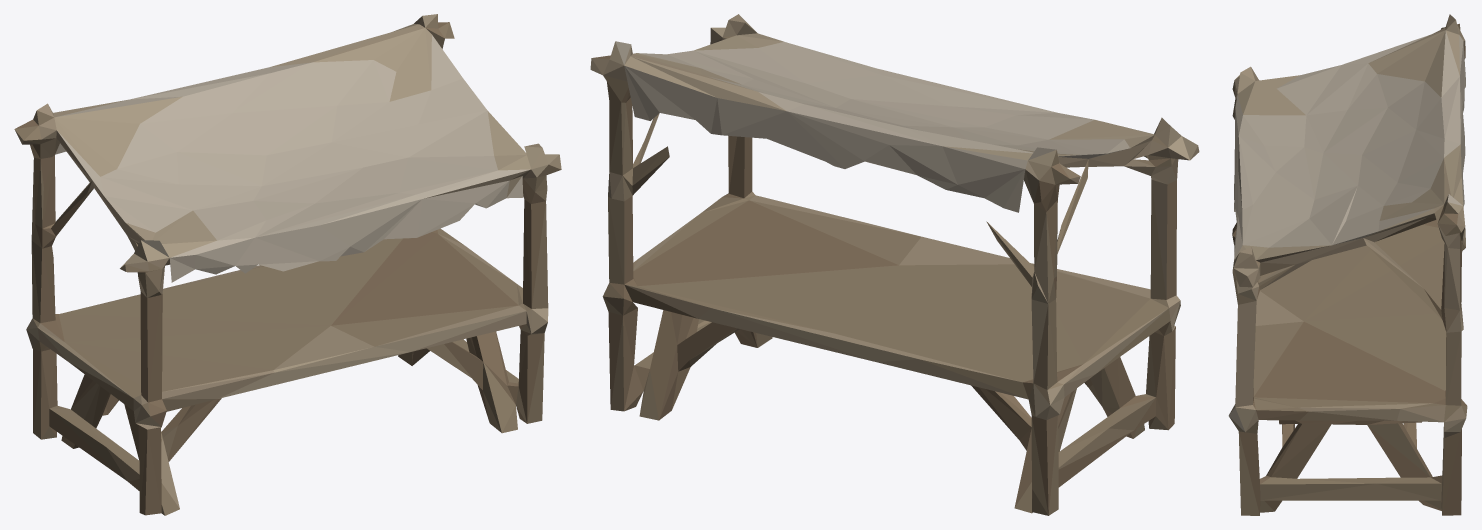
The model's file is stall.glb.
3 renders of one model, left to right at view 1: azimuth 30°, elevation 25°; view 2: azimuth 150°, elevation 25°; view 3: azimuth 270°, elevation 25°, orthographic. The views are drawn at different scales.
Parts seen in each view (by area): view 1: Hull; view 2: Hull; view 3: Hull.
Part boxes in pixels (x1,y1,x2,y2): Hull: (14, 14, 561, 515); Hull: (590, 14, 1199, 515); Hull: (1228, 14, 1467, 515).
Size of the model in its own units: 3.13 by 2.3 by 1.54.
